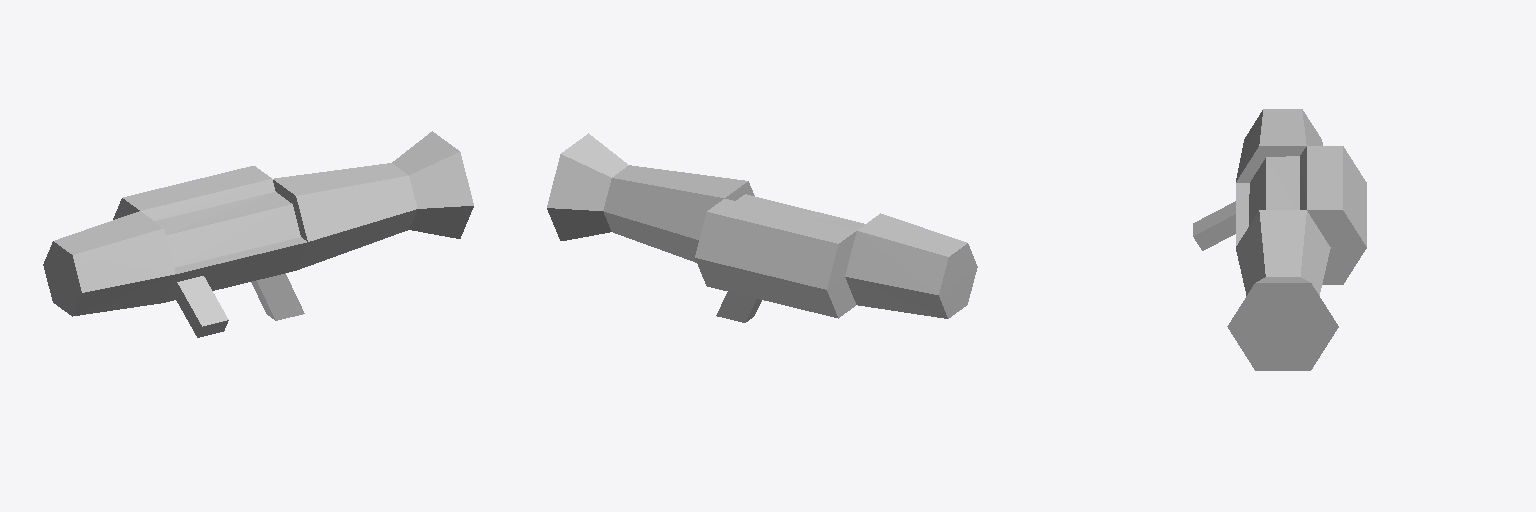
File: Rpg.obj
3 renders of one model, left to right at view 1: azimuth 30°, elevation 25°; view 2: azimuth 150°, elevation 25°; view 3: azimuth 270°, elevation 25°, orthographic.
Parts seen in each view (by area): view 1: Cylinder.021; view 2: Cylinder.021; view 3: Cylinder.021.
Boxes of the visible parts, x1,y1,x2,y2 form: Cylinder.021: [43, 131, 473, 337]; Cylinder.021: [547, 133, 977, 322]; Cylinder.021: [1193, 109, 1366, 370].
Bounding box in the file's own units: 67.71 × 22.51 × 26.61.